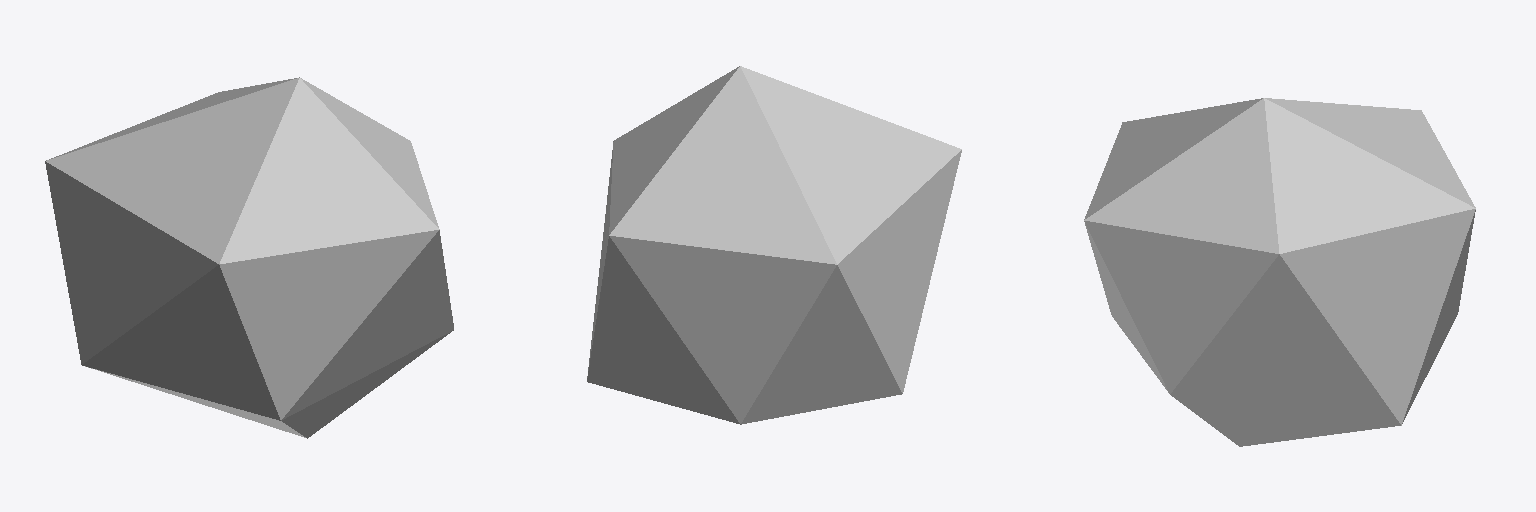
File: asteroid.obj
3 renders of one model, left to right at view 1: azimuth 30°, elevation 25°; view 2: azimuth 150°, elevation 25°; view 3: azimuth 270°, elevation 25°, orthographic.
Visible parts, largest first — view 1: Icosphere; view 2: Icosphere; view 3: Icosphere.
Boxes of the visible parts, box(x1,y1,x2,y2) form: Icosphere: box(45, 77, 453, 438); Icosphere: box(587, 66, 961, 424); Icosphere: box(1084, 98, 1475, 446).
Bounding box in the file's own units: 1.54 × 1.67 × 1.69.